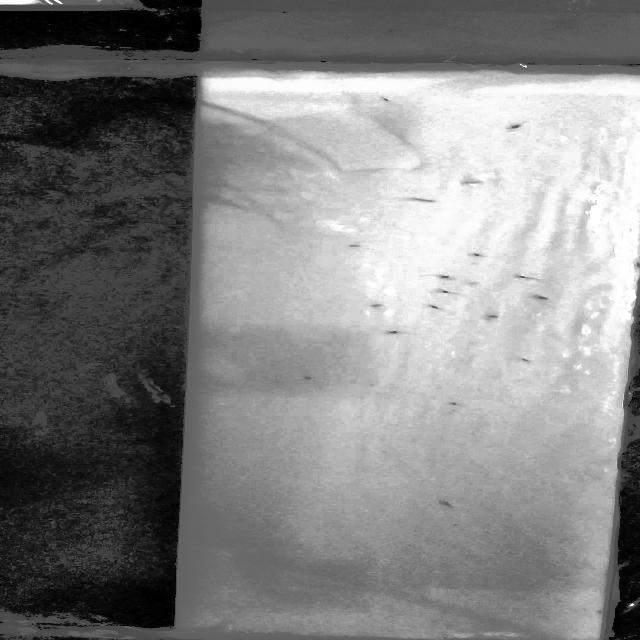shrimp: (493, 118, 537, 133), (363, 298, 405, 312), (403, 194, 446, 207), (431, 493, 464, 509), (509, 270, 537, 287), (474, 309, 510, 322), (379, 328, 420, 339), (460, 248, 490, 262), (436, 286, 469, 298), (340, 240, 372, 250), (530, 292, 558, 302), (509, 354, 536, 364), (443, 398, 467, 408), (294, 371, 314, 382), (419, 304, 448, 311), (434, 273, 458, 281)
